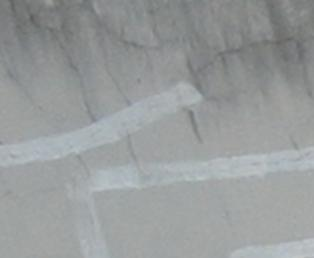fissura: (0, 0, 299, 172)
